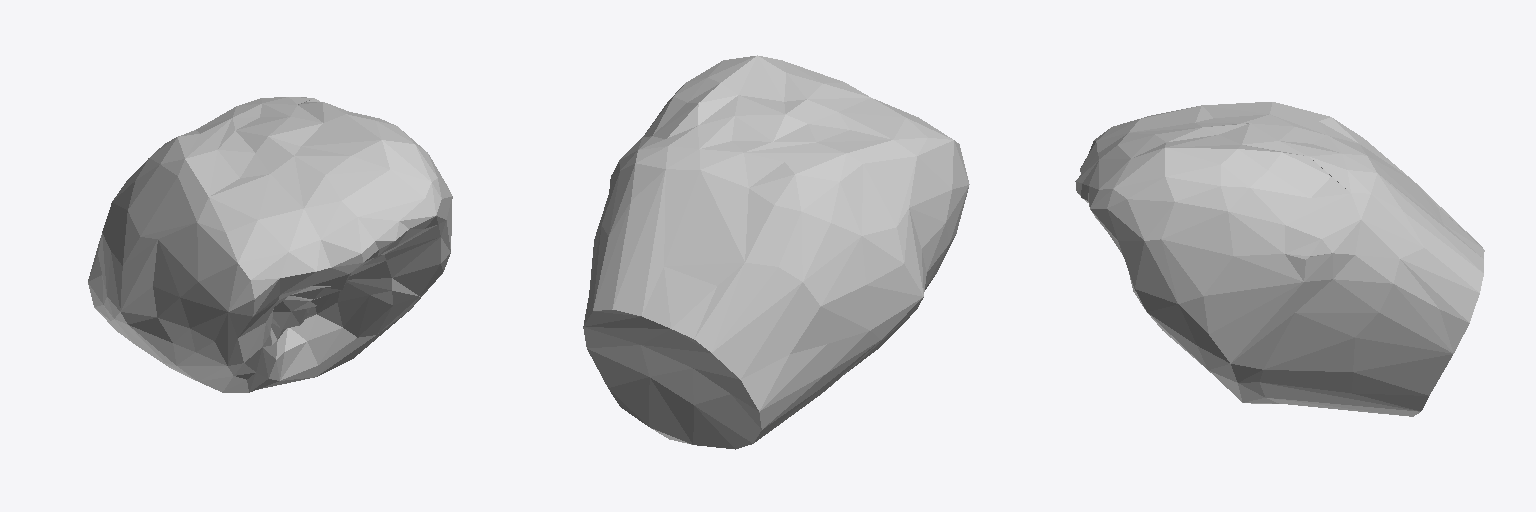
File: local_t22_7780_si.OBJ
The picture shows the model from 3 angles: view 1: azimuth 30°, elevation 25°; view 2: azimuth 150°, elevation 25°; view 3: azimuth 270°, elevation 25°; orthographic projection.
Visible parts, largest first — view 1: Group27569; view 2: Group27569; view 3: Group27569.
Boxes of the visible parts, box(x1,y1,x2,y2) form: Group27569: box(88, 97, 452, 392); Group27569: box(583, 55, 969, 449); Group27569: box(1075, 102, 1484, 416).
Bounding box in the file's own units: 8.25 × 7.66 × 10.03.